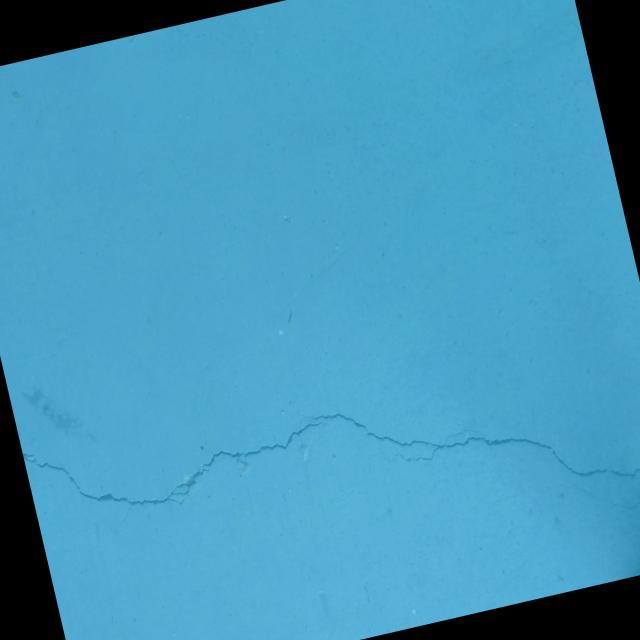crack: (22, 307, 640, 640)
